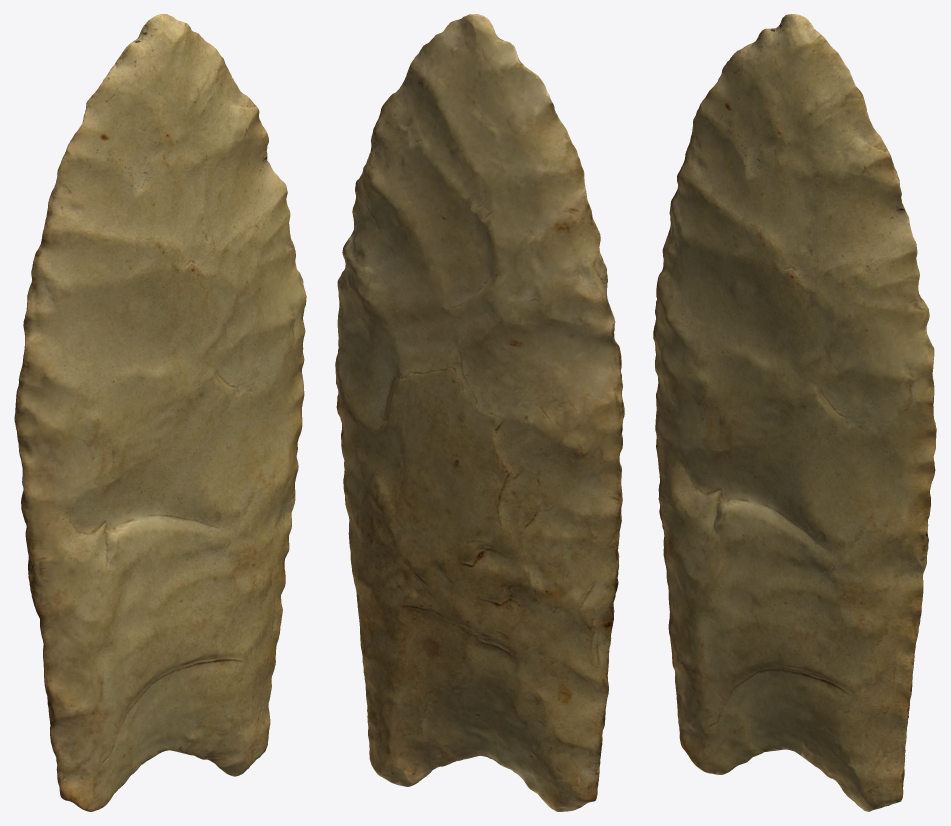
The picture shows the model from 3 angles, left to right: view 1: azimuth 30°, elevation 25°; view 2: azimuth 150°, elevation 25°; view 3: azimuth 330°, elevation 25°; orthographic projection. The views are drawn at different scales.
Visible parts, largest first — view 1: Object_2; view 2: Object_2; view 3: Object_2.
Part boxes in pixels (bbox=[...]): Object_2: bbox=[14, 14, 306, 811]; Object_2: bbox=[335, 14, 624, 811]; Object_2: bbox=[653, 14, 936, 811].
Size of the model in its own units: 0.0326 by 0.0846 by 0.00723.
Materials: 1 (1 with a texture image).
